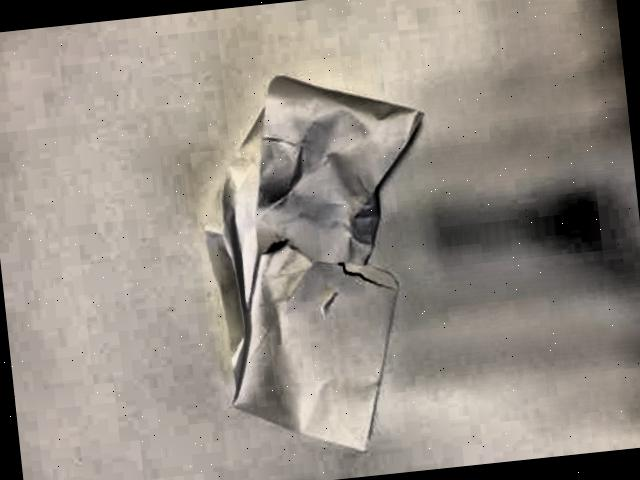Paper: (146, 52, 467, 480)
